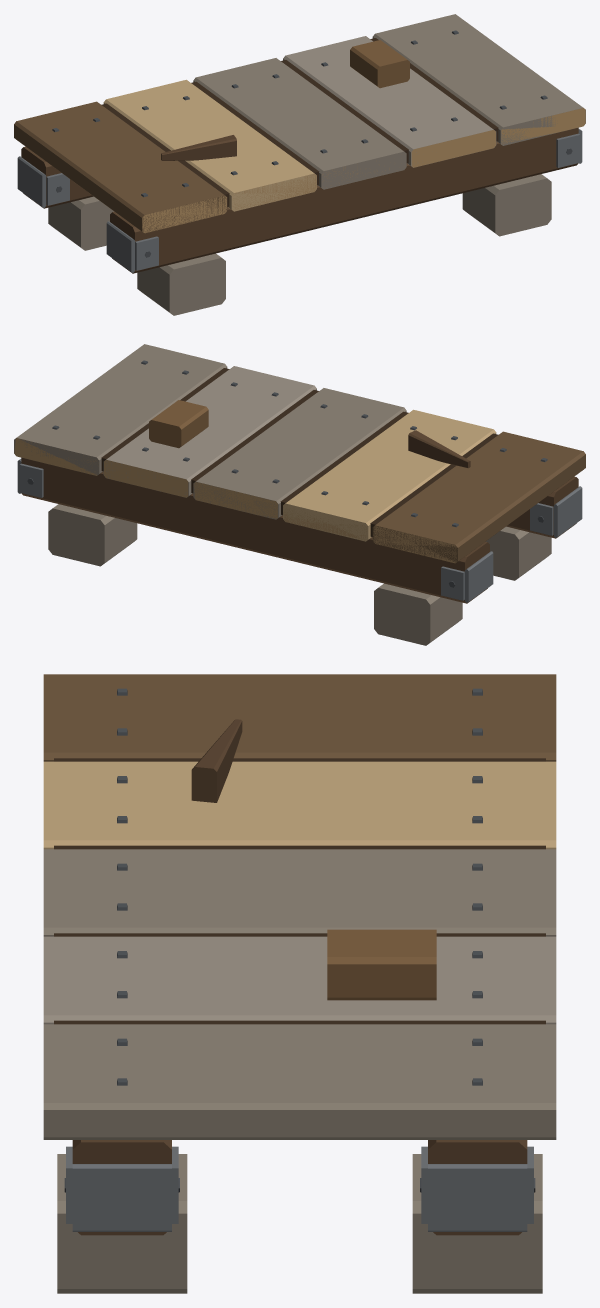
The model's file is SM_LPD_Furn_DunnageStillage_01.fbx.
3 renders of one model, top to bottom at view 1: azimuth 30°, elevation 25°; view 2: azimuth 150°, elevation 25°; view 3: azimuth 270°, elevation 25°, orthographic. The views are drawn at different scales.
Parts seen in each view (by area): view 1: SM_LPD_Furn_DunnageStillage_01; view 2: SM_LPD_Furn_DunnageStillage_01; view 3: SM_LPD_Furn_DunnageStillage_01.
Part boxes in pixels (x1=…): SM_LPD_Furn_DunnageStillage_01: x1=14, y1=14, x2=585, y2=315; SM_LPD_Furn_DunnageStillage_01: x1=14, y1=344, x2=585, y2=645; SM_LPD_Furn_DunnageStillage_01: x1=43, y1=674, x2=556, y2=1293.
Bounding box in the file's own units: 1.52 × 0.43 × 0.75.
